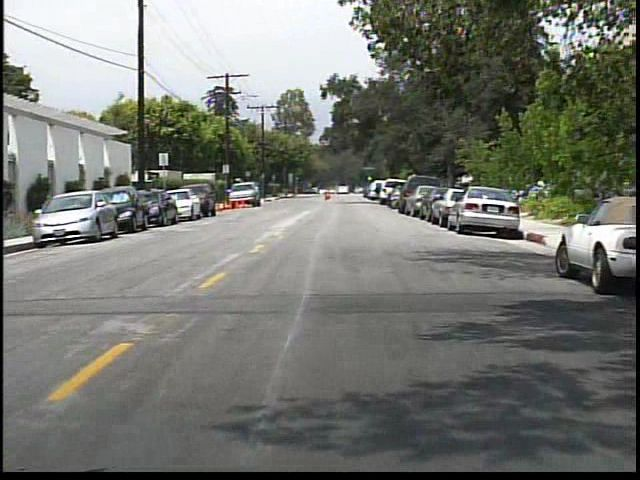car: (548, 195, 640, 281), (29, 194, 117, 244), (448, 184, 521, 237), (138, 181, 178, 225), (114, 180, 148, 231), (226, 179, 265, 207), (174, 184, 197, 220)
strada: (2, 243, 607, 456)
